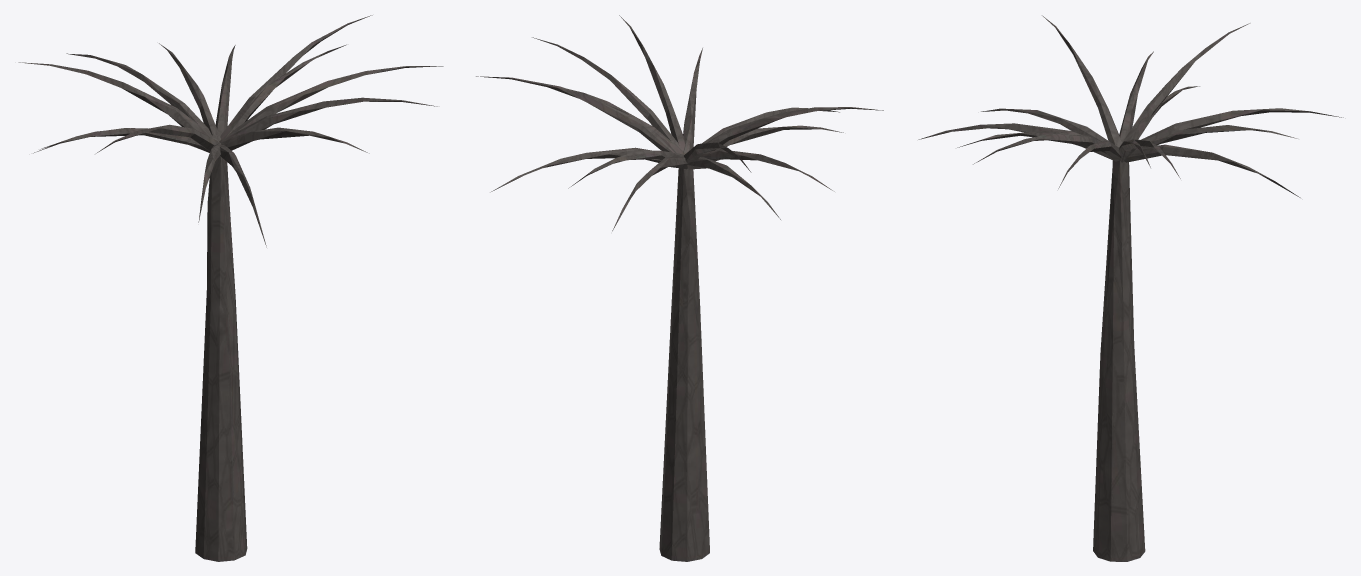
Rendered from dicroidium_quemado.glb.
3 views of the same model, side by side, from view 1: azimuth 30°, elevation 25°; view 2: azimuth 150°, elevation 25°; view 3: azimuth 270°, elevation 25° (orthographic). The views are drawn at different scales.
Visible parts, largest first — view 1: dicroidium_quemado_medio; view 2: dicroidium_quemado_medio; view 3: dicroidium_quemado_medio.
Boxes of the visible parts, x1,y1,x2,y2 form: dicroidium_quemado_medio: (18, 15, 443, 561); dicroidium_quemado_medio: (476, 15, 883, 561); dicroidium_quemado_medio: (918, 15, 1343, 561).
Size of the model in its own units: 4.12 by 5.1 by 4.29.
1 material, 1 textured.
